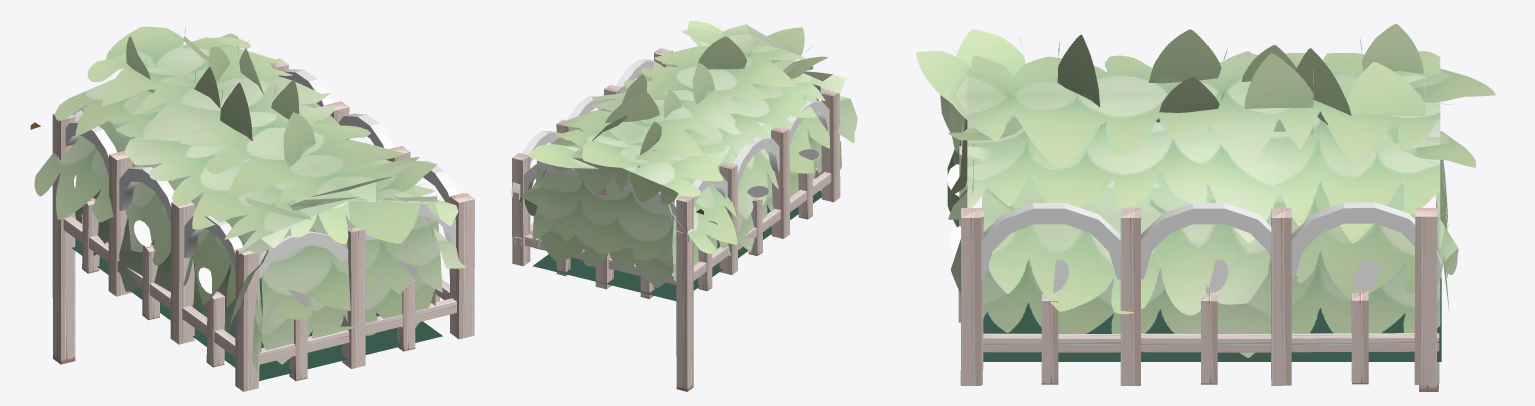
File: DecoHedgeVillage_270.fbx
3 renders of one model, left to right at view 1: azimuth 30°, elevation 25°; view 2: azimuth 150°, elevation 25°; view 3: azimuth 270°, elevation 25°, orthographic. The views are drawn at different scales.
Parts seen in each view (by area): view 1: DecoHedgeFarm, ParkFenceTile (5), ParkFenceTile (8), ParkFenceTile (6), ParkFenceTile (9), ParkFenceTile (4), ParkFenceTileEnd (3), DecoHedgeFarmShadow, ParkFenceTile, ParkFenceTile (1), ParkFenceTile (2); view 2: DecoHedgeFarm, ParkFenceTile (6), ParkFenceTile (5), ParkFenceTileEnd (3), ParkFenceTile (3), ParkFenceTile (9), DecoHedgeFarmShadow, ParkFenceTile (7), ParkFenceTile (2), ParkFenceTile, ParkFenceTile (1); view 3: DecoHedgeFarm, ParkFenceTile, ParkFenceTile (2), ParkFenceTile (1), DecoHedgeFarmShadow, ParkFenceTile (3), ParkFenceTile (4).
Boxes of the visible parts, bbox=[...] form: DecoHedgeFarm: bbox=[30, 26, 466, 371]; ParkFenceTile (5): bbox=[182, 216, 259, 391]; ParkFenceTile (8): bbox=[259, 227, 365, 380]; ParkFenceTile (6): bbox=[117, 166, 194, 344]; ParkFenceTile (9): bbox=[63, 121, 132, 296]; ParkFenceTile (4): bbox=[365, 193, 473, 351]; ParkFenceTileEnd (3): bbox=[52, 113, 75, 364]; DecoHedgeFarmShadow: bbox=[71, 237, 442, 380]; ParkFenceTile: bbox=[414, 161, 474, 335]; ParkFenceTile (1): bbox=[338, 113, 410, 161]; ParkFenceTile (2): bbox=[279, 69, 349, 139]; DecoHedgeFarm: bbox=[519, 20, 857, 288]; ParkFenceTile (6): bbox=[733, 127, 789, 256]; ParkFenceTile (5): bbox=[787, 89, 840, 219]; ParkFenceTileEnd (3): bbox=[676, 195, 693, 391]; ParkFenceTile (3): bbox=[512, 153, 584, 276]; ParkFenceTile (9): bbox=[676, 162, 737, 290]; DecoHedgeFarmShadow: bbox=[532, 190, 822, 301]; ParkFenceTile (7): bbox=[595, 185, 692, 298]; ParkFenceTile (2): bbox=[511, 119, 572, 249]; ParkFenceTile: bbox=[616, 48, 671, 92]; ParkFenceTile (1): bbox=[567, 84, 622, 119]; DecoHedgeFarm: bbox=[916, 23, 1495, 357]; ParkFenceTile: bbox=[961, 203, 1120, 385]; ParkFenceTile (2): bbox=[1271, 202, 1441, 385]; ParkFenceTile (1): bbox=[1120, 203, 1271, 385]; DecoHedgeFarmShadow: bbox=[983, 278, 1441, 361]; ParkFenceTile (3): bbox=[1414, 193, 1437, 384]; ParkFenceTile (4): bbox=[949, 196, 983, 384].
Size of the model in its own units: 1.8 by 2.13 by 2.87.
